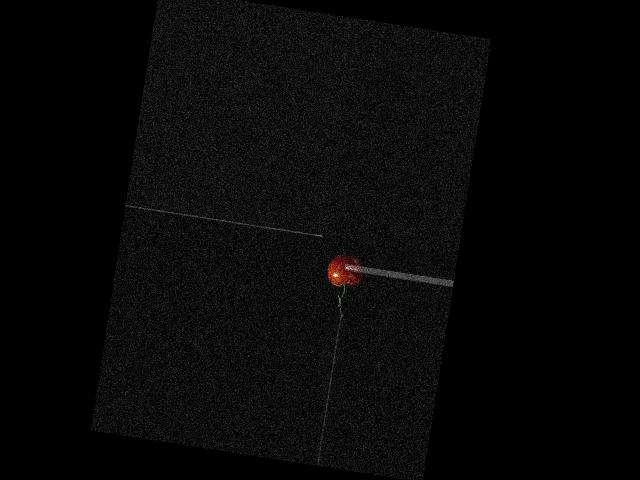tomato: (326, 253, 364, 288)
